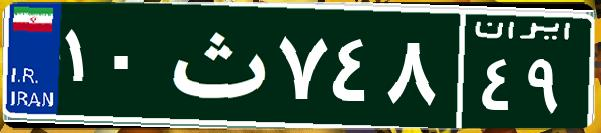0: (110, 28, 158, 105)
1: (57, 26, 110, 107)
4: (330, 28, 385, 110), (475, 38, 525, 113)
7: (273, 28, 330, 110)
8: (385, 28, 445, 110)
9: (525, 38, 570, 115)
ث: (158, 15, 273, 115)
